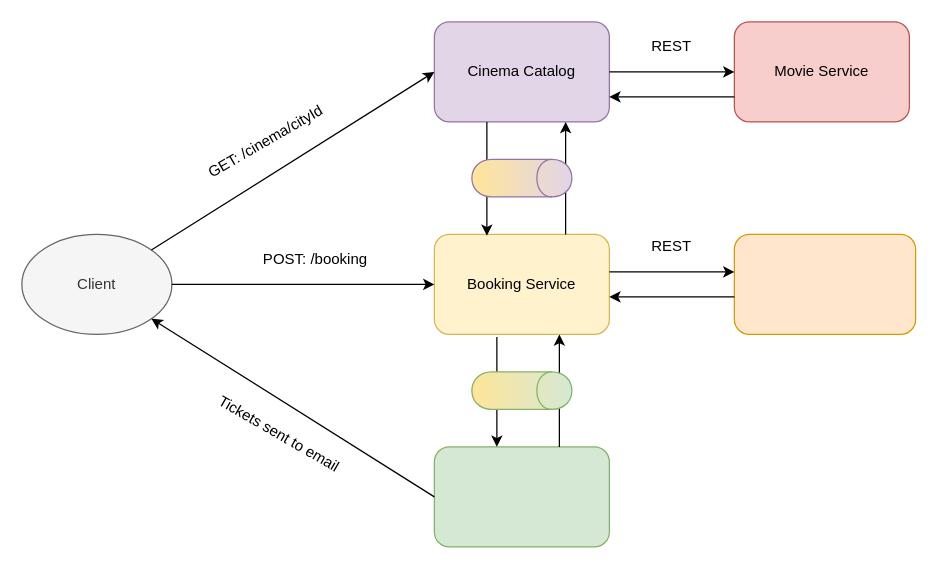
This 938x569 diagram has some shape labels left out. Here are the shapes that lost their labels. From the top down, the box of each, then its label:
(733, 233, 916, 334): Payment Service
(433, 446, 609, 547): Notification Service
